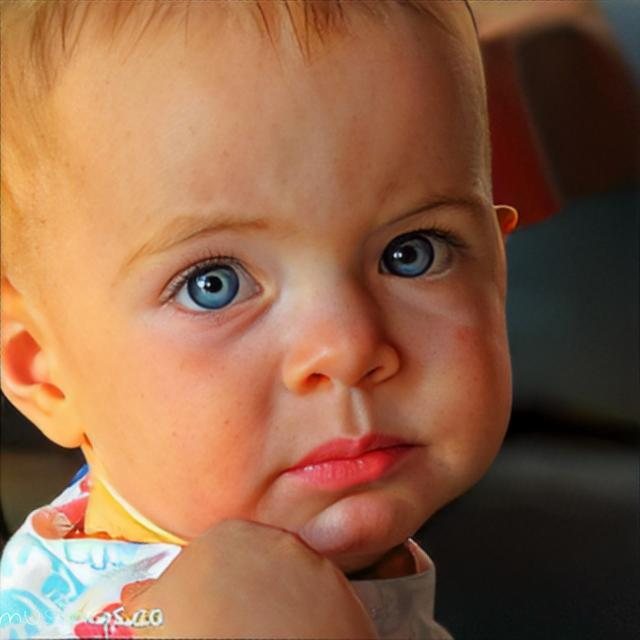sad: (0, 0, 517, 568)
